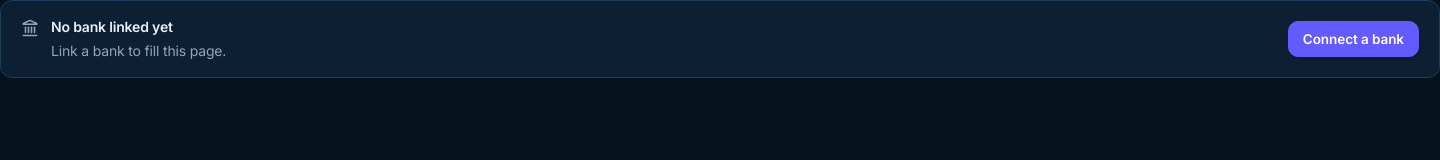
Test: ConnectBankPrompt › shows why linking could not start, with the button still there to try again
This screenshot has width=1440, height=160.
Click the button "Connect a bank" at (1353, 39), box [1288,21,1419,57]
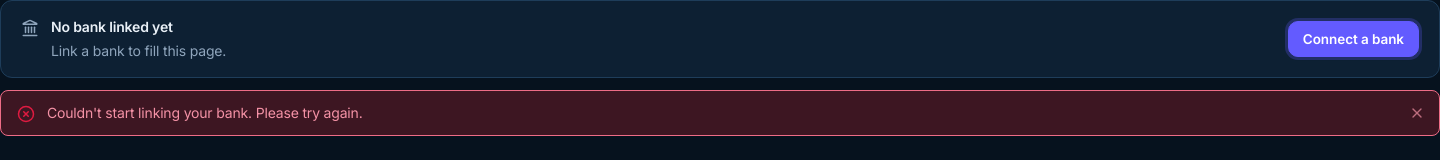
Check: the message reads "Couldn't start linking your bank. Please try again.", box [47,104,362,121]
